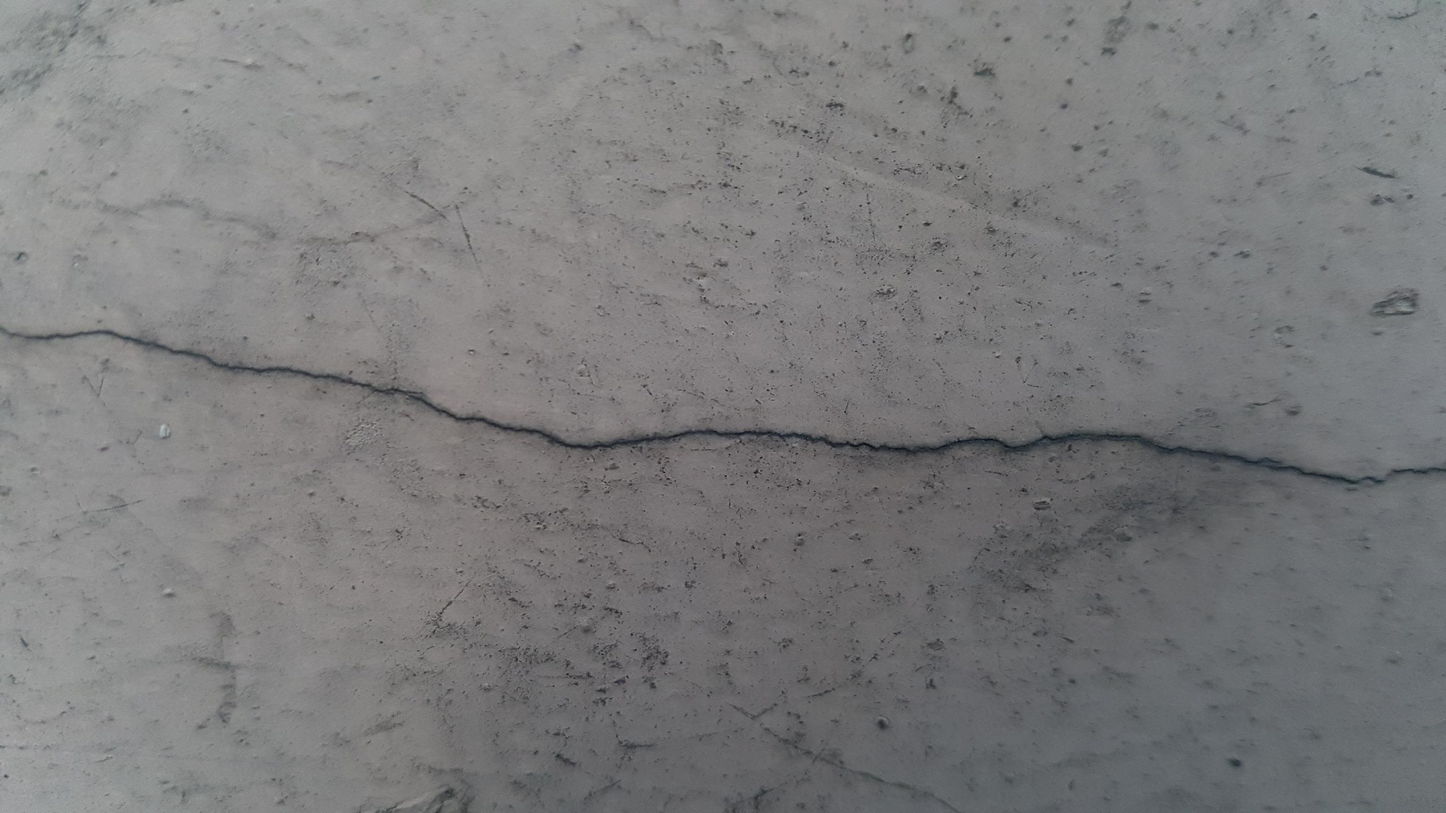crack: (1, 324, 1445, 488)
